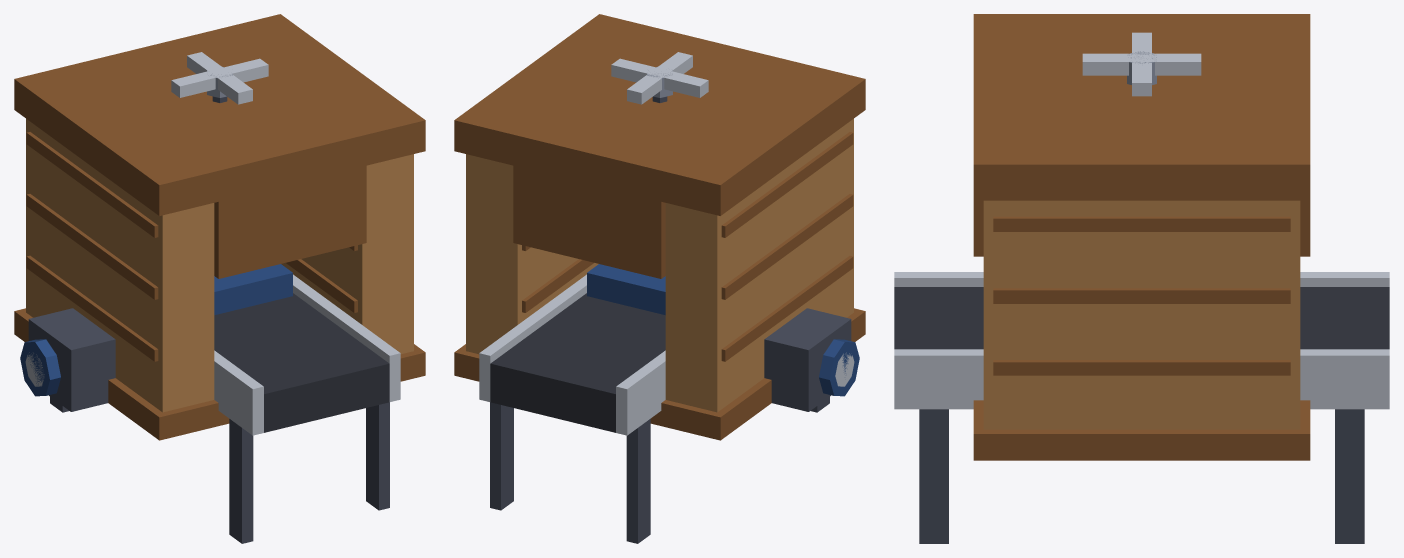
Rendered from cheese-cellar.glb.
The picture shows the model from 3 angles, left to right: view 1: azimuth 30°, elevation 25°; view 2: azimuth 150°, elevation 25°; view 3: azimuth 270°, elevation 25°; orthographic projection. The views are drawn at different scales.
Parts seen in each view (by area): view 1: cheese-cellar, spin-up; view 2: cheese-cellar, spin-up; view 3: cheese-cellar, spin-up.
Part boxes in pixels (x1,y1,x2,y2): cheese-cellar: (14, 14, 425, 543); spin-up: (171, 52, 268, 104); cheese-cellar: (454, 14, 865, 543); spin-up: (611, 52, 708, 104); cheese-cellar: (894, 14, 1389, 543); spin-up: (1082, 32, 1201, 96).
Bounding box in the file's own units: 0.86 × 0.99 × 1.
Materials: 2 (2 with a texture image).
